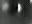person: (3, 3, 9, 13), (18, 4, 23, 14)
